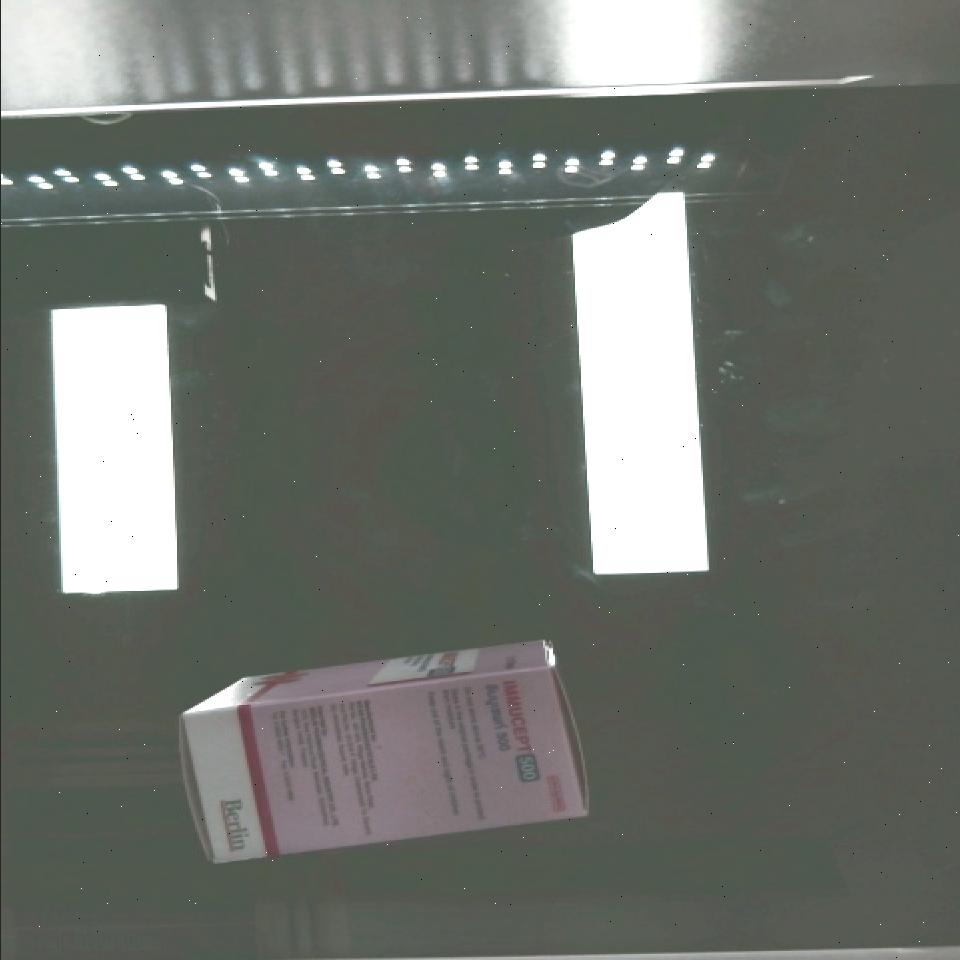medicine_box: (185, 665, 580, 866)
medicine_label_obb: (483, 667, 551, 798)
